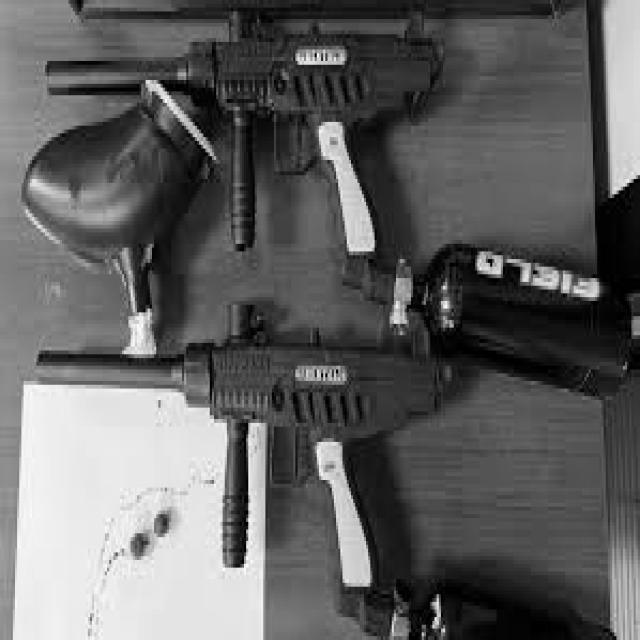semi: (39, 304, 448, 610), (42, 12, 446, 280)
